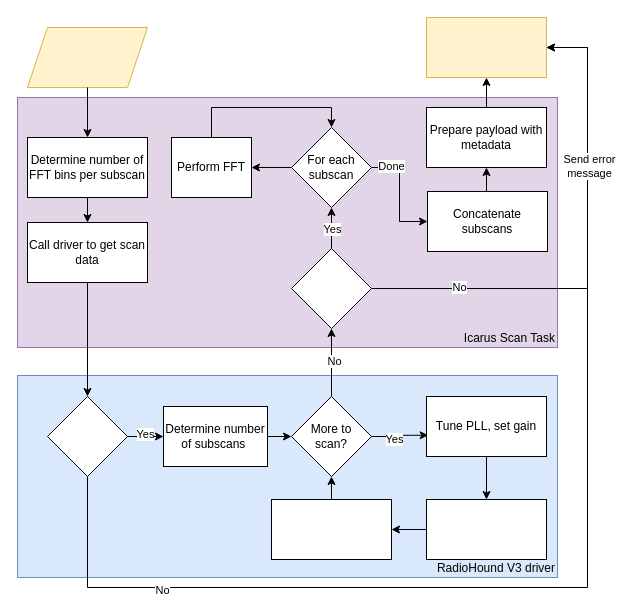
Image size: 632x614. Some labels were removed from this diagram. The shapes that lost their labels are listed below. From the top down, each one's centre as x and y in pixels, then its label:
At point 87,57: "Request from Platform".
At point 486,47: "Send to requestor".
At point 331,288: "Scan successful?".
At point 87,436: "Is hardware free?".
At point 331,529: "Adjust for calibration & gain".
At point 486,529: "Read from ADC & convert to voltages".
